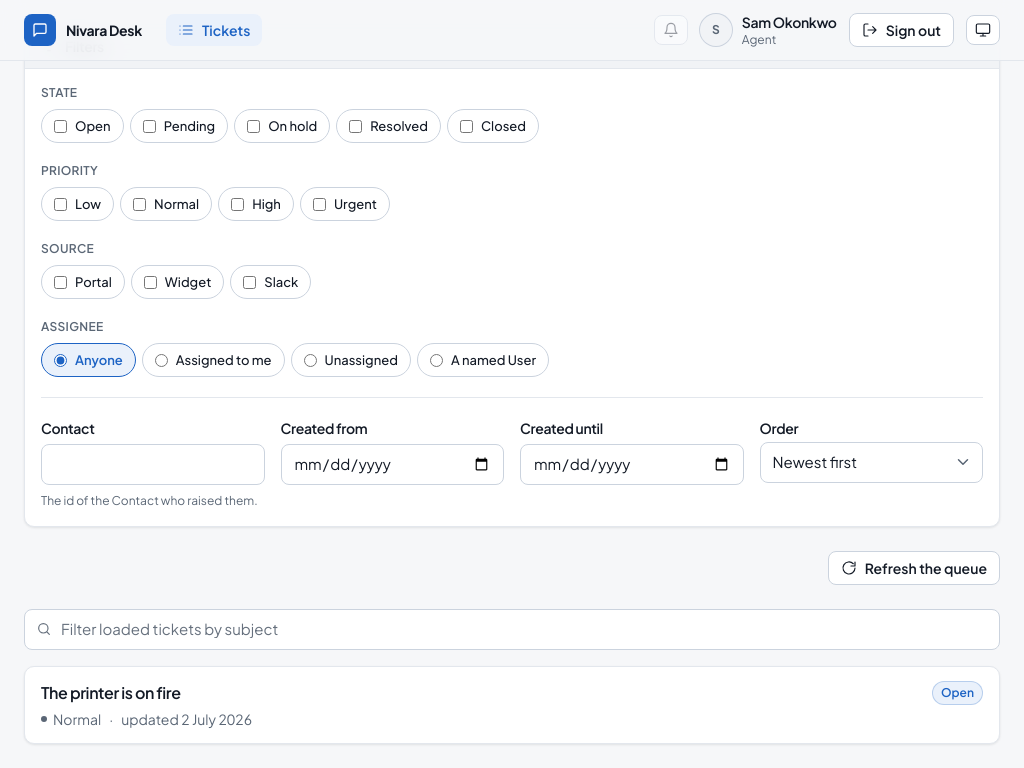
Test: who a Ticket belongs to › says when nobody has claimed it
The width and height of the screenshot is (1024, 768).
(page scrolled)
Click the button "The printer is on fire Normal · updated 2 July 2026 Open" at coordinates (111, 692), box [25,666,999,742]
(page scrolled)
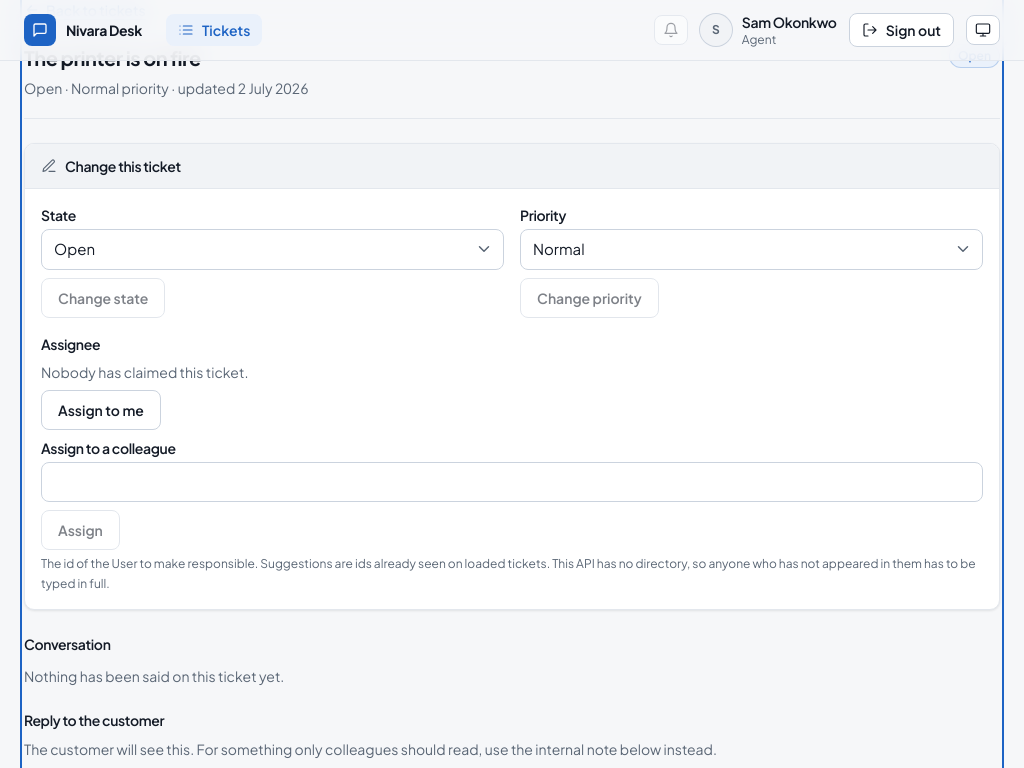
Expected: the heading "The printer is on fire" is shown, [24,44,201,72]
Expected: the text "Nobody has claimed this ticket." is shown, [41,362,248,380]
